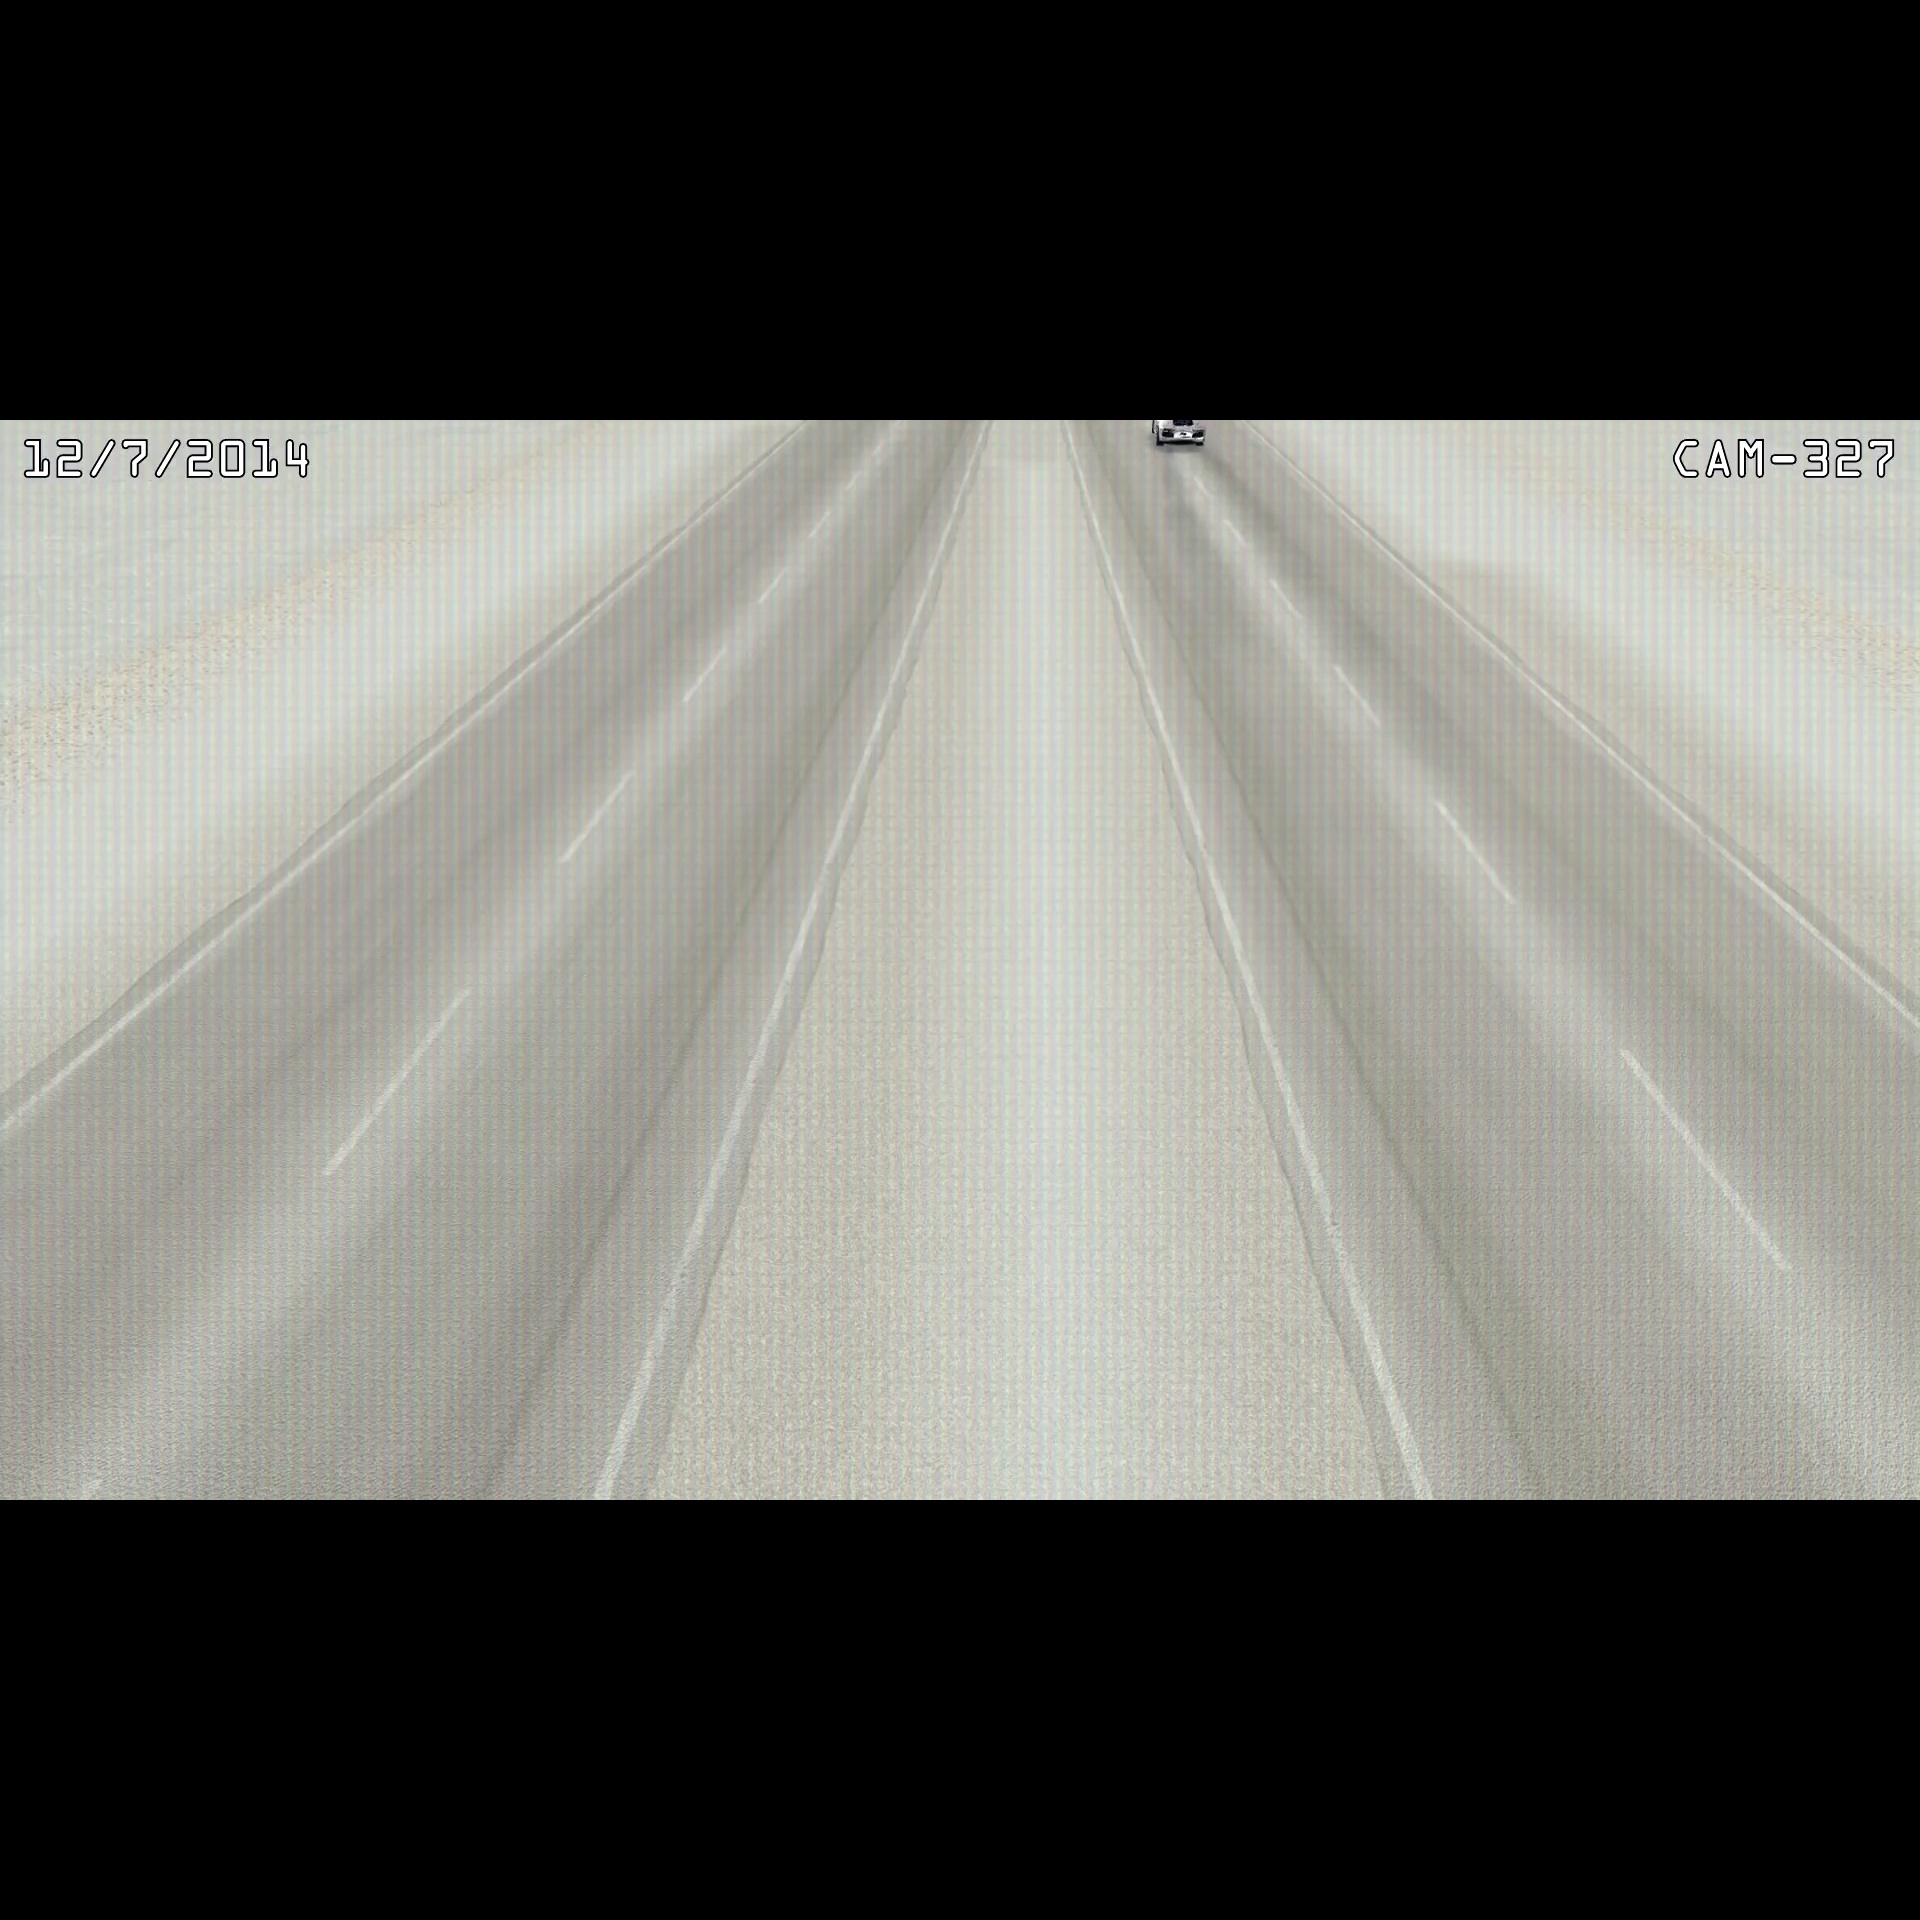vehicle: (1145, 418, 1217, 454)
